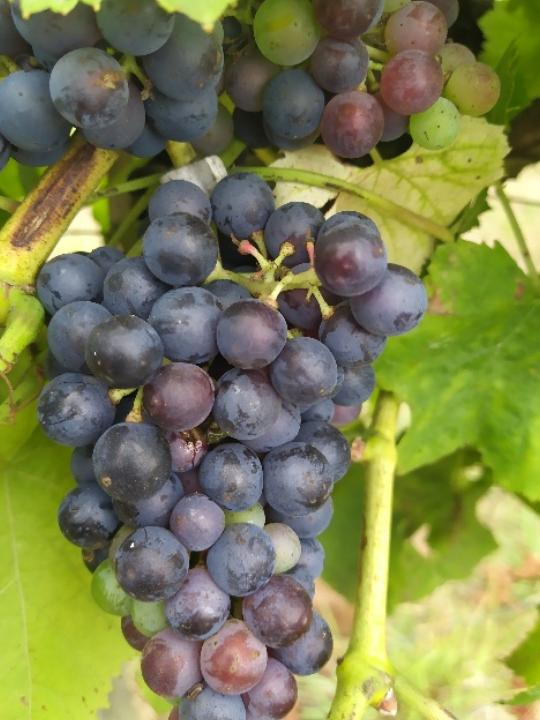grape: (38, 176, 432, 720)
